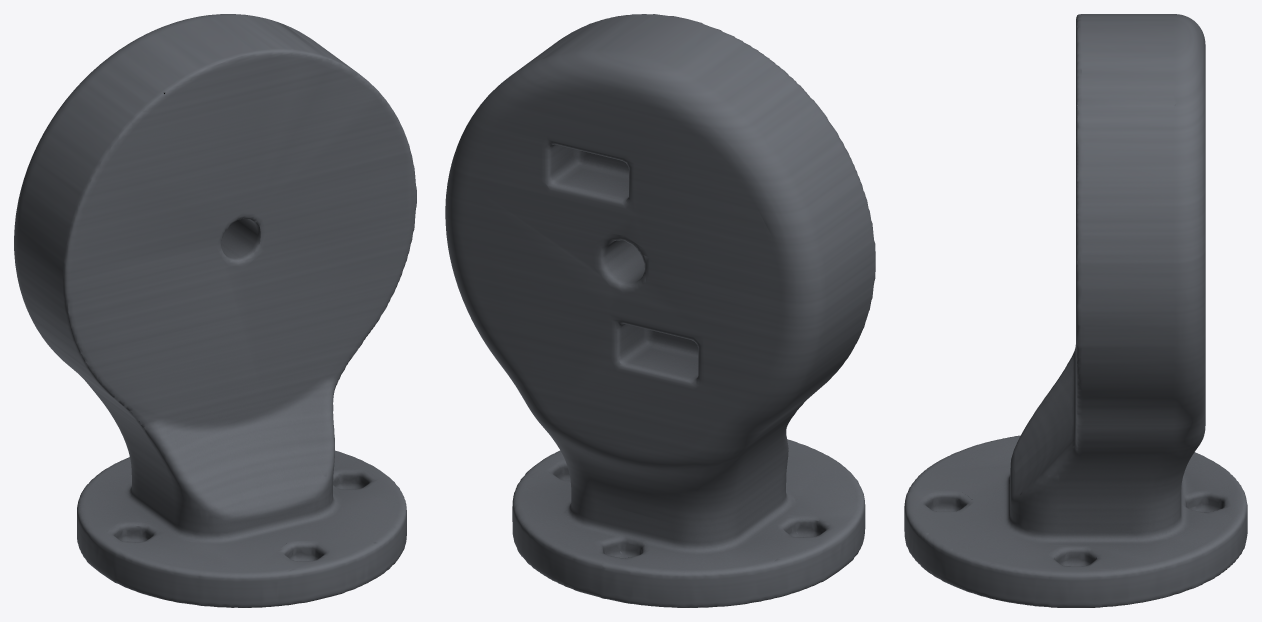
Rendered from right_elbow_midle.glb.
3 views of the same model, side by side, from view 1: azimuth 30°, elevation 25°; view 2: azimuth 150°, elevation 25°; view 3: azimuth 270°, elevation 25° (orthographic). The views are drawn at different scales.
Visible parts, largest first — view 1: right_elbow_midle; view 2: right_elbow_midle; view 3: right_elbow_midle.
Boxes of the visible parts, x1,y1,x2,y2 form: right_elbow_midle: (14, 14, 416, 607); right_elbow_midle: (445, 14, 875, 607); right_elbow_midle: (904, 14, 1247, 607).
Size of the model in its own units: 0.0547 by 0.0717 by 0.0443.
1 material, 1 textured.
